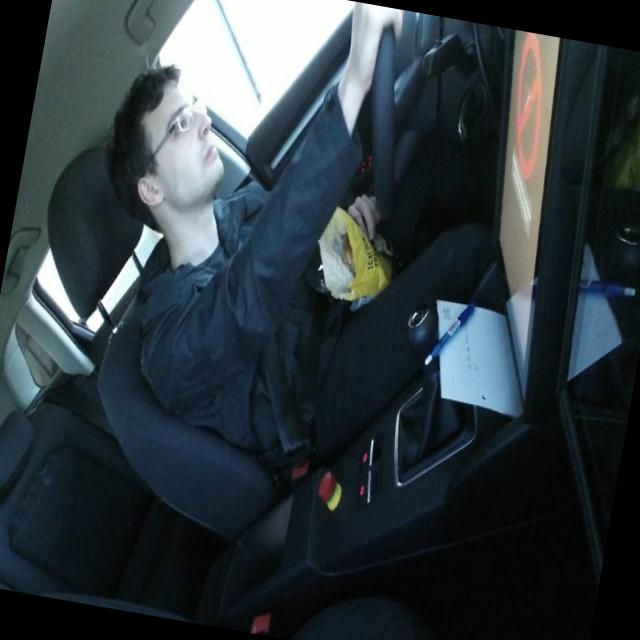pen: (422, 291, 477, 372)
